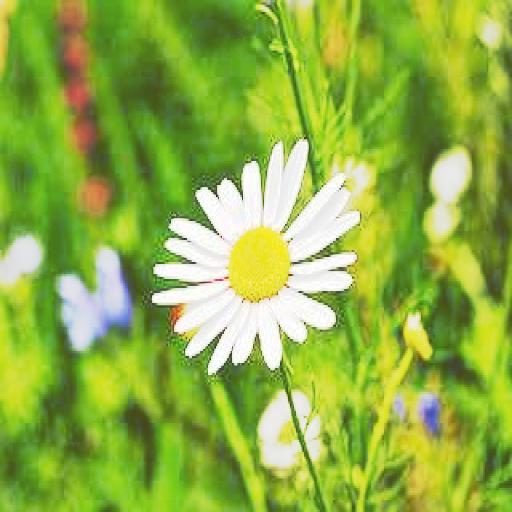daisy: (165, 156, 350, 358)
